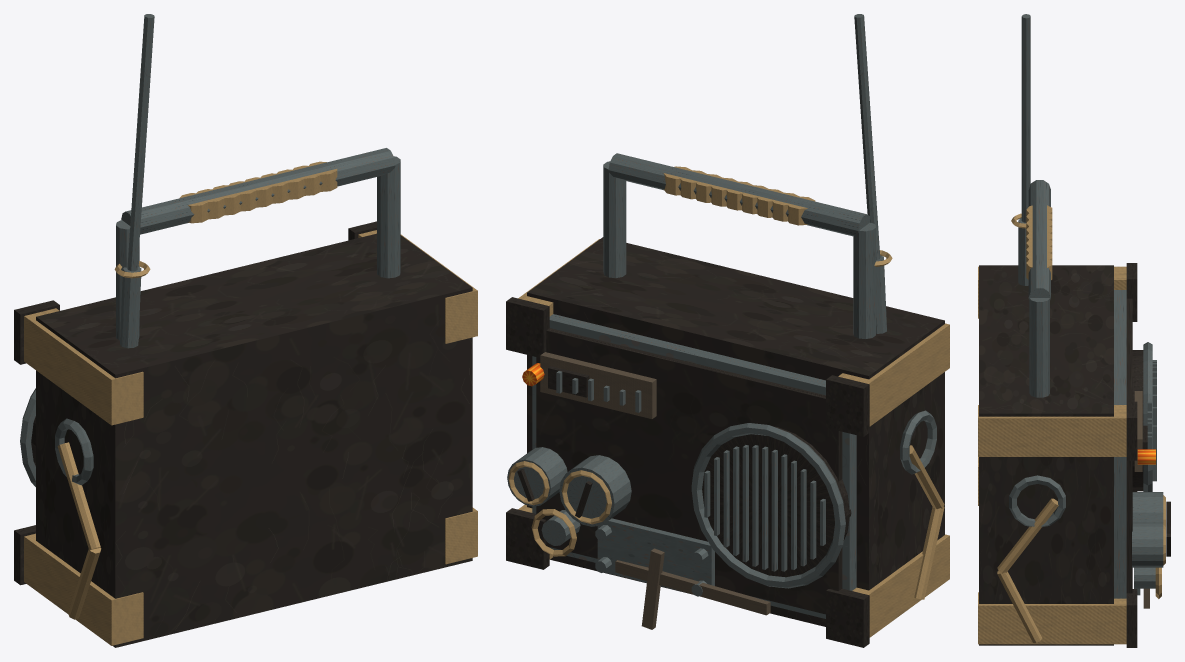
Rendered from pr-005_portable_radio__repaired.obj.
The picture shows the model from 3 angles, left to right: view 1: azimuth 30°, elevation 25°; view 2: azimuth 150°, elevation 25°; view 3: azimuth 270°, elevation 25°; orthographic projection. The views are drawn at different scales.
Parts seen in each view (by area): view 1: pr-005_portable_radio__repaired; view 2: pr-005_portable_radio__repaired; view 3: pr-005_portable_radio__repaired.
Boxes of the visible parts, <box> form: pr-005_portable_radio__repaired: <box>14,14,477,647</box>; pr-005_portable_radio__repaired: <box>506,14,949,647</box>; pr-005_portable_radio__repaired: <box>978,14,1170,647</box>.
Size of the model in its own units: 0.269 by 0.4199 by 0.1386.
5 materials, 5 textured.
